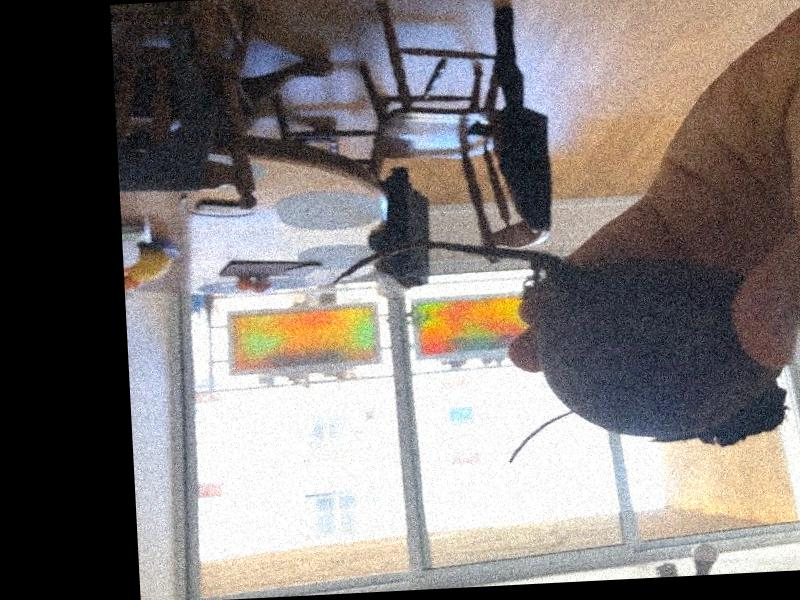Beet: (331, 224, 788, 468)
